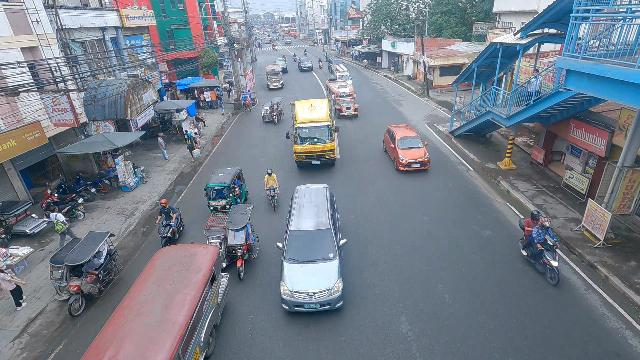car: (276, 184, 348, 315), (381, 122, 432, 173), (297, 55, 314, 73), (274, 57, 288, 74), (285, 37, 292, 45)
jeepney: (325, 78, 359, 119), (265, 64, 284, 90)
motorcycle: (157, 197, 184, 250), (262, 166, 282, 211), (292, 52, 298, 62), (318, 58, 323, 69), (324, 52, 329, 62), (282, 54, 287, 63), (304, 49, 308, 57), (272, 43, 275, 51), (275, 43, 278, 50)
truck: (289, 98, 338, 169)
